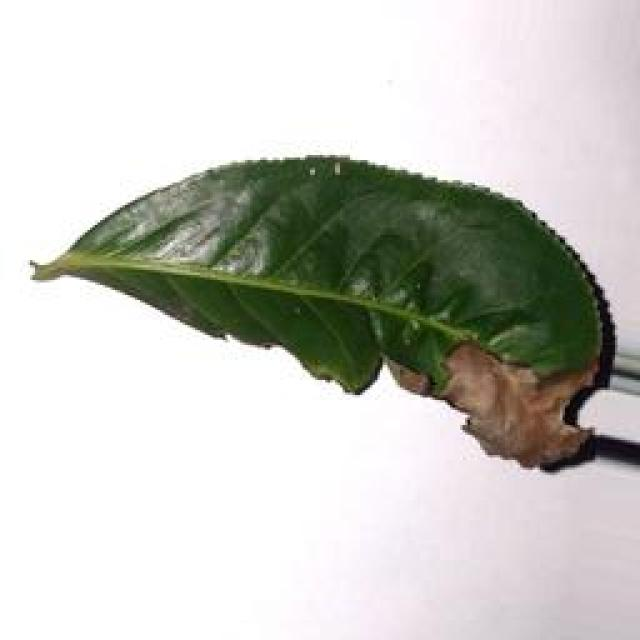Brown Blight: (27, 150, 633, 482)
